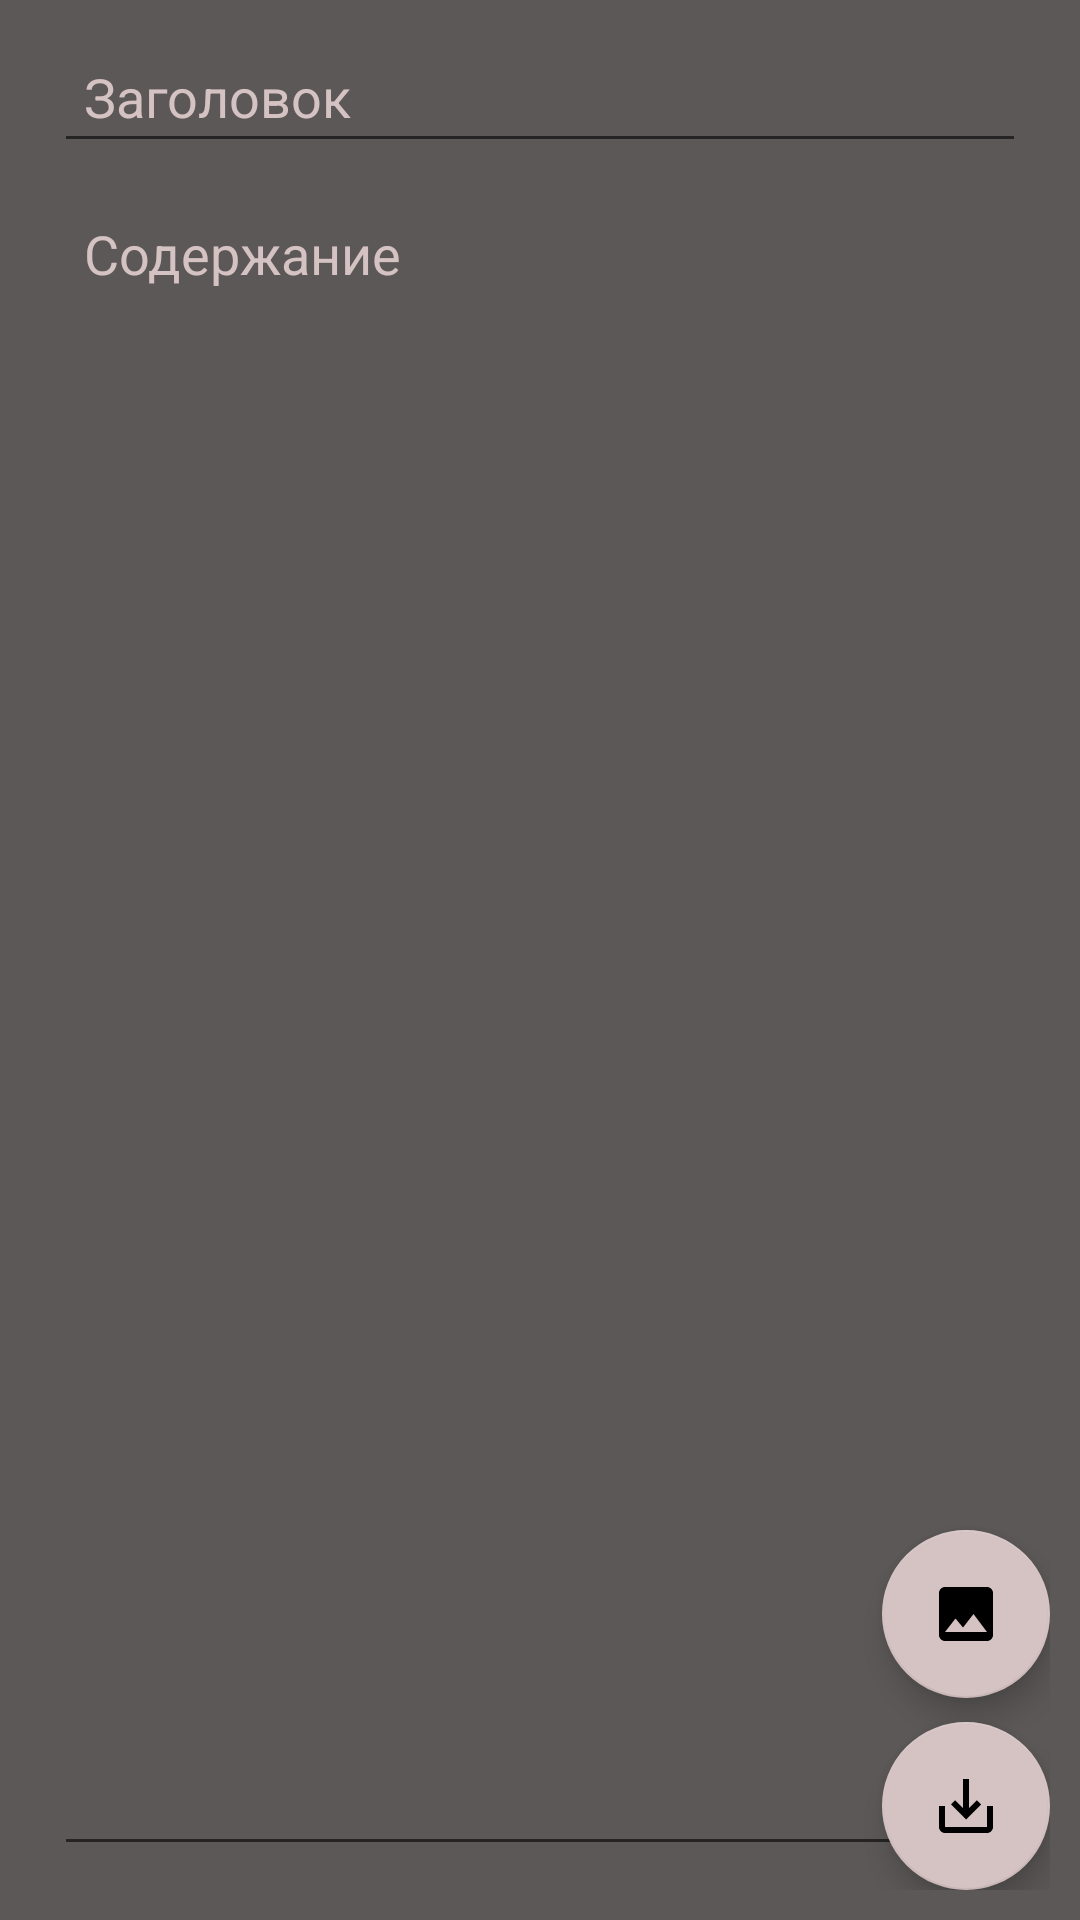

Icon bounding boxes for this 1080×1920 phone screenshot, format bbox=[x1, y1, x2, y2]:
save: bbox=[882, 1722, 1050, 1890]
